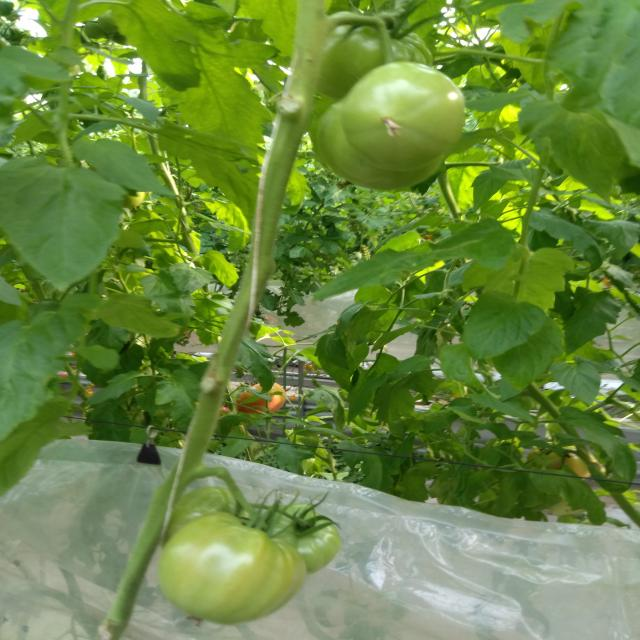yesil: (162, 461, 347, 634), (320, 25, 488, 177)
